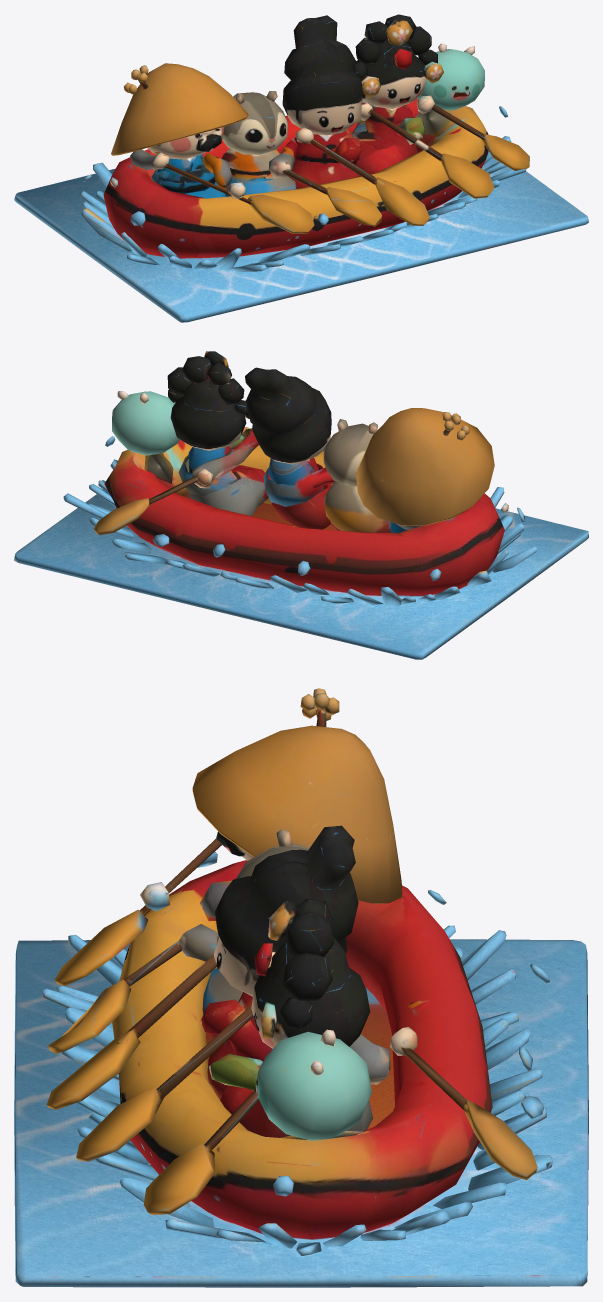
File: Rating-boat-ani.glb
3 renders of one model, top to bottom at view 1: azimuth 30°, elevation 25°; view 2: azimuth 150°, elevation 25°; view 3: azimuth 270°, elevation 25°, orthographic. The views are drawn at different scales.
Visible parts, largest first — view 1: mesh_node; view 2: mesh_node; view 3: mesh_node.
Part boxes in pixels (x1,y1,x2,y2): mesh_node: (14,14,588,322); mesh_node: (14,351,588,659); mesh_node: (14,688,588,1287).
Size of the model in its own units: 3.85 by 1.64 by 2.78.
1 material, 1 textured.
